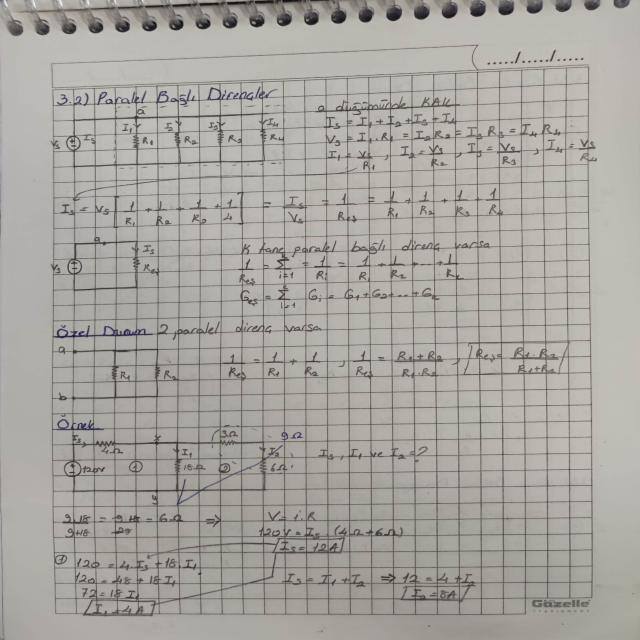image: (53, 423, 311, 510), (43, 101, 298, 176), (43, 227, 165, 298), (51, 343, 186, 406)
math: (51, 181, 515, 240), (317, 100, 612, 177), (218, 342, 569, 388), (234, 251, 477, 309), (70, 552, 205, 621), (242, 507, 417, 556), (55, 511, 194, 547), (314, 439, 436, 472), (396, 567, 487, 605), (275, 566, 376, 597)
text: (50, 77, 285, 117), (49, 315, 332, 344), (231, 233, 501, 259), (308, 92, 464, 117)
